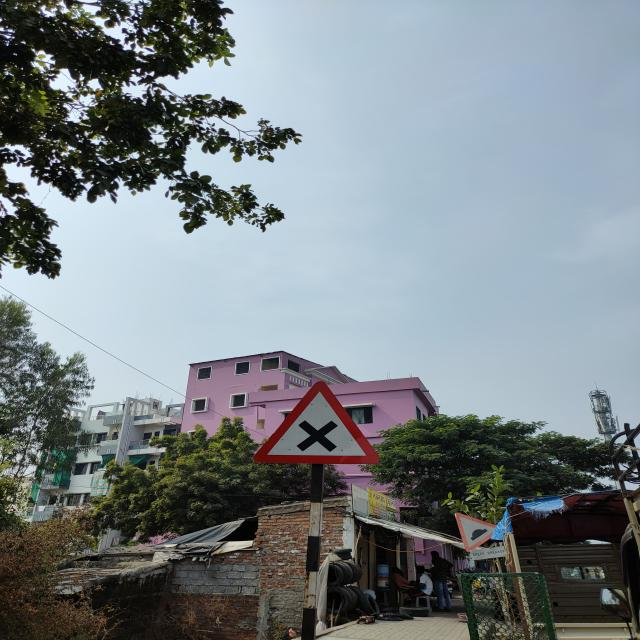cross_road: (251, 379, 379, 467)
